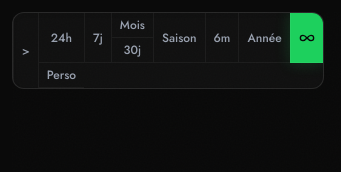
Test: IntervalsSelector › replier masque les intervalles et affiche le libellé Filtres
Click the button ">". click: (25, 50)
box: [13,13,38,88]
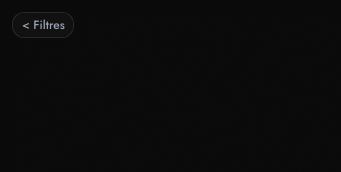
Expected: the button "7j" is gone
Expected: the number of buttons is 1, [13,13,73,37]
